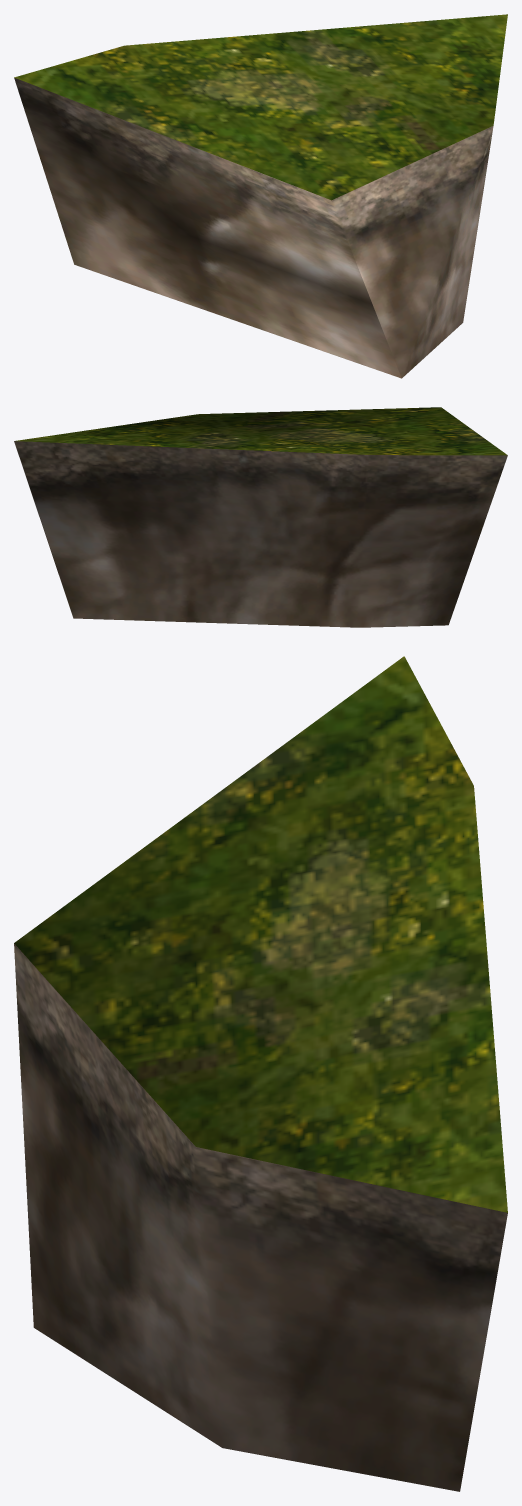
Rendered from ANIMATEDINSTANCES_OH_ROCKFALL_203__AI.fbx.
The picture shows the model from 3 angles, top to bottom: view 1: azimuth 30°, elevation 25°; view 2: azimuth 150°, elevation 25°; view 3: azimuth 270°, elevation 25°; orthographic projection. The views are drawn at different scales.
Visible parts, largest first — view 1: ANIMATEDINSTANCES_OH_ROCKFALL_203__AI; view 2: ANIMATEDINSTANCES_OH_ROCKFALL_203__AI; view 3: ANIMATEDINSTANCES_OH_ROCKFALL_203__AI.
Boxes of the visible parts, box(x1,y1,x2,y2) form: ANIMATEDINSTANCES_OH_ROCKFALL_203__AI: box(14, 14, 507, 378); ANIMATEDINSTANCES_OH_ROCKFALL_203__AI: box(14, 407, 507, 627); ANIMATEDINSTANCES_OH_ROCKFALL_203__AI: box(14, 656, 507, 1491).
Size of the model in its own units: 14218 by 7739 by 7172.
Materials: 2 (2 with a texture image).
